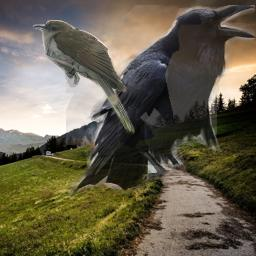Crow: (66, 5, 255, 201)
Cuckoo: (33, 20, 135, 136)
